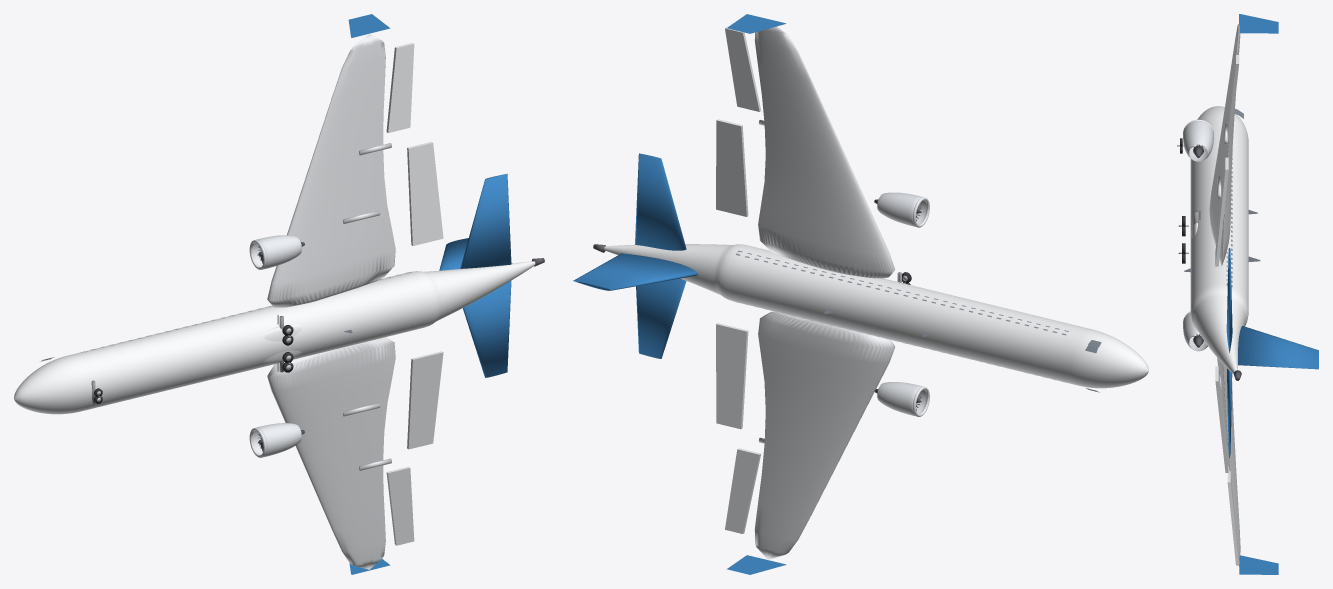
The picture shows the model from 3 angles, left to right: view 1: azimuth 30°, elevation 25°; view 2: azimuth 150°, elevation 25°; view 3: azimuth 270°, elevation 25°; orthographic projection.
Visible parts, largest first — view 1: Fuselage, Wing_R, Wing_L, HStab_R, HStab_L, Flap_R, Flap_L, Aileron_R, Aileron_L, Nacelle_-1_0, Nacelle_1_0; view 2: Fuselage, Wing_L, Wing_R, HStab_R, Flap_L, HStab_L, Fin, Flap_R, Aileron_L, Aileron_R, Nacelle_1_0, Nacelle_-1_0; view 3: Fuselage, Fin, Wing_R, Wing_L, Nacelle_1_0, Sharklet_R, Sharklet_L, Flap_R, Flap_L, HStab_R, Aileron_L, Nacelle_-1_0 (+2 smaller).
Boxes of the visible parts, left/top/right/bottom form: Fuselage: left=14, top=261, right=535, bottom=414; Wing_R: left=267, top=34, right=395, bottom=307; Wing_L: left=267, top=337, right=395, bottom=569; HStab_R: left=460, top=173, right=511, bottom=268; HStab_L: left=463, top=281, right=511, bottom=377; Flap_R: left=407, top=141, right=443, bottom=245; Flap_L: left=407, top=351, right=443, bottom=449; Aileron_R: left=386, top=43, right=414, bottom=132; Aileron_L: left=386, top=466, right=414, bottom=545; Nacelle_-1_0: left=252, top=423, right=301, bottom=457; Nacelle_1_0: left=252, top=235, right=301, bottom=269; Fuselage: left=604, top=244, right=1148, bottom=388; Wing_L: left=754, top=311, right=895, bottom=559; Wing_R: left=754, top=26, right=895, bottom=278; HStab_R: left=635, top=153, right=686, bottom=250; Flap_L: left=716, top=323, right=748, bottom=429; HStab_L: left=636, top=278, right=686, bottom=358; Fin: left=573, top=253, right=697, bottom=290; Flap_R: left=716, top=119, right=748, bottom=216; Aileron_L: left=725, top=448, right=760, bottom=533; Aileron_R: left=725, top=27, right=761, bottom=111; Nacelle_1_0: left=877, top=192, right=926, bottom=226; Nacelle_-1_0: left=877, top=382, right=926, bottom=416; Fuselage: left=1190, top=106, right=1248, bottom=373; Fin: left=1238, top=326, right=1318, bottom=369; Wing_R: left=1209, top=24, right=1240, bottom=265; Wing_L: left=1217, top=358, right=1240, bottom=563; Nacelle_1_0: left=1183, top=121, right=1213, bottom=161; Sharklet_R: left=1239, top=14, right=1278, bottom=33; Sharklet_L: left=1239, top=555, right=1278, bottom=574; Flap_R: left=1215, top=157, right=1228, bottom=266; Flap_L: left=1215, top=366, right=1228, bottom=472; HStab_R: left=1226, top=248, right=1232, bottom=352; Aileron_L: left=1227, top=471, right=1239, bottom=565; Nacelle_-1_0: left=1183, top=312, right=1207, bottom=351.
Size of the model in its own units: 32.62 by 31 by 7.36.
